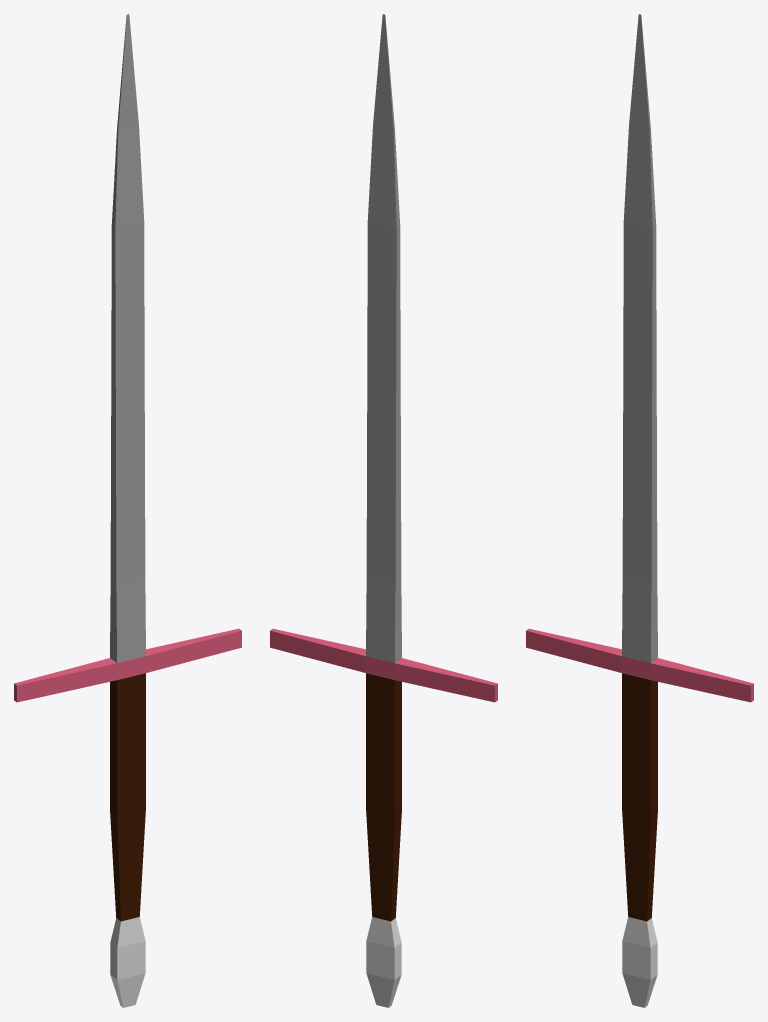
The picture shows the model from 3 angles, left to right: view 1: azimuth 30°, elevation 25°; view 2: azimuth 150°, elevation 25°; view 3: azimuth 330°, elevation 25°; orthographic projection.
Parts seen in each view (by area): view 1: Cube; view 2: Cube; view 3: Cube.
Part boxes in pixels (x1,y1,x2,y2): Cube: (14, 14, 241, 1007); Cube: (270, 14, 497, 1007); Cube: (526, 14, 753, 1007).
Size of the model in its own units: 35.82 by 151 by 2.
